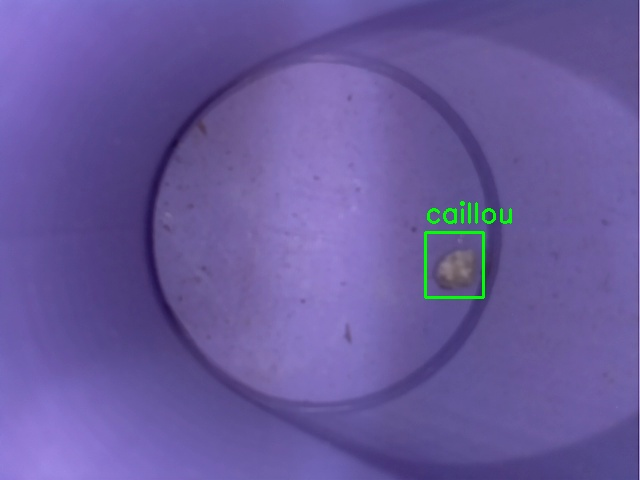caillou: (425, 232, 483, 297)
